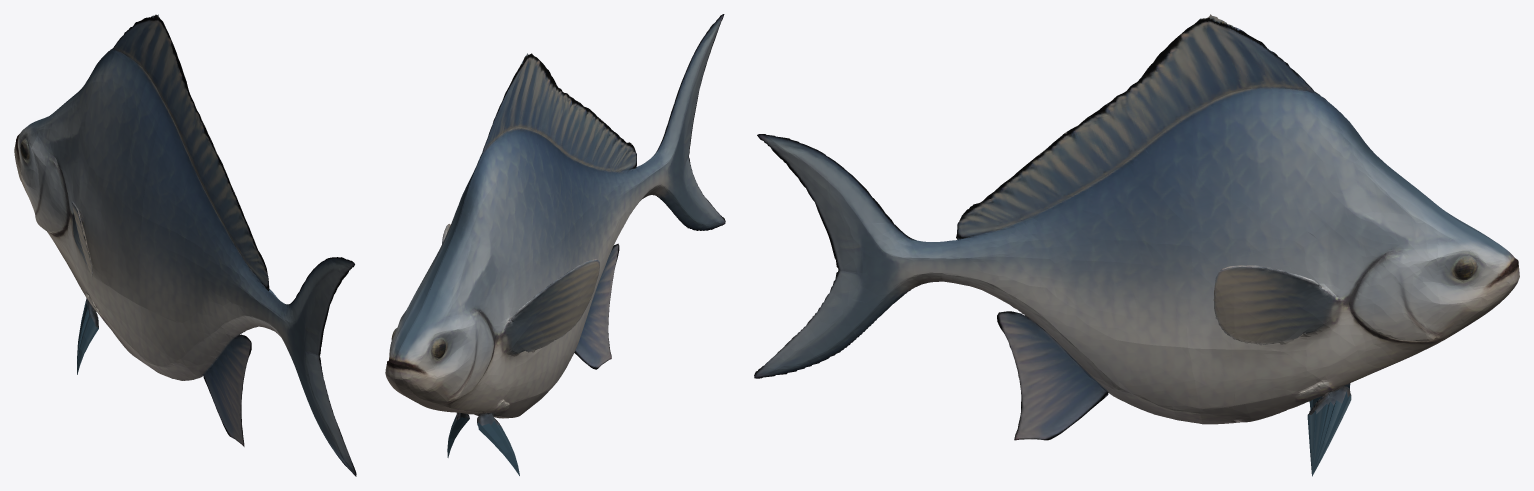
3 views of the same model, side by side, from view 1: azimuth 30°, elevation 25°; view 2: azimuth 150°, elevation 25°; view 3: azimuth 270°, elevation 25° (orthographic). The views are drawn at different scales.
Parts seen in each view (by area): view 1: world; view 2: world; view 3: world.
Part boxes in pixels (<box>): world: <box>14,14,356,476</box>; world: <box>385,14,725,475</box>; world: <box>754,14,1519,476</box>.
Size of the model in its own units: 0.2597 by 0.6386 by 1.
Materials: 2 (1 with a texture image).
